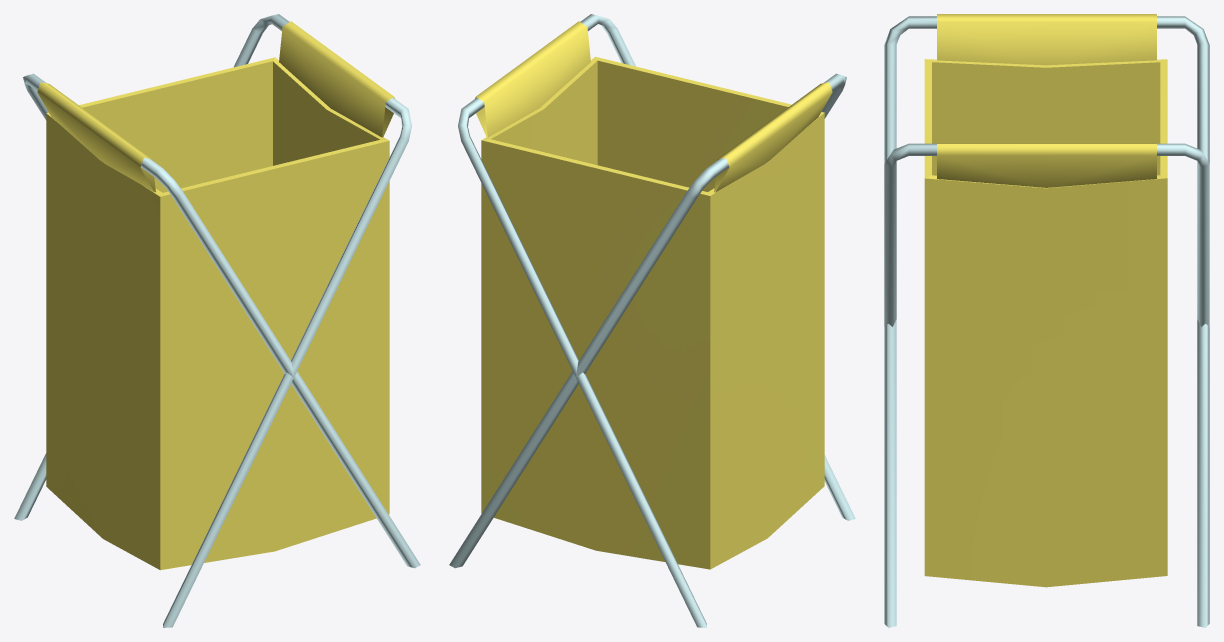
The model's file is laundry.glb.
3 views of the same model, side by side, from view 1: azimuth 30°, elevation 25°; view 2: azimuth 150°, elevation 25°; view 3: azimuth 270°, elevation 25° (orthographic). The views are drawn at different scales.
Visible parts, largest first — view 1: bathroom_item_001; view 2: bathroom_item_001; view 3: bathroom_item_001.
Boxes of the visible parts, bbox=[...] form: bathroom_item_001: bbox=[14, 14, 420, 627]; bathroom_item_001: bbox=[449, 14, 855, 627]; bathroom_item_001: bbox=[884, 14, 1209, 627].
Size of the model in its own units: 0.9199 by 1.54 by 0.9433.
1 material, 1 textured.
